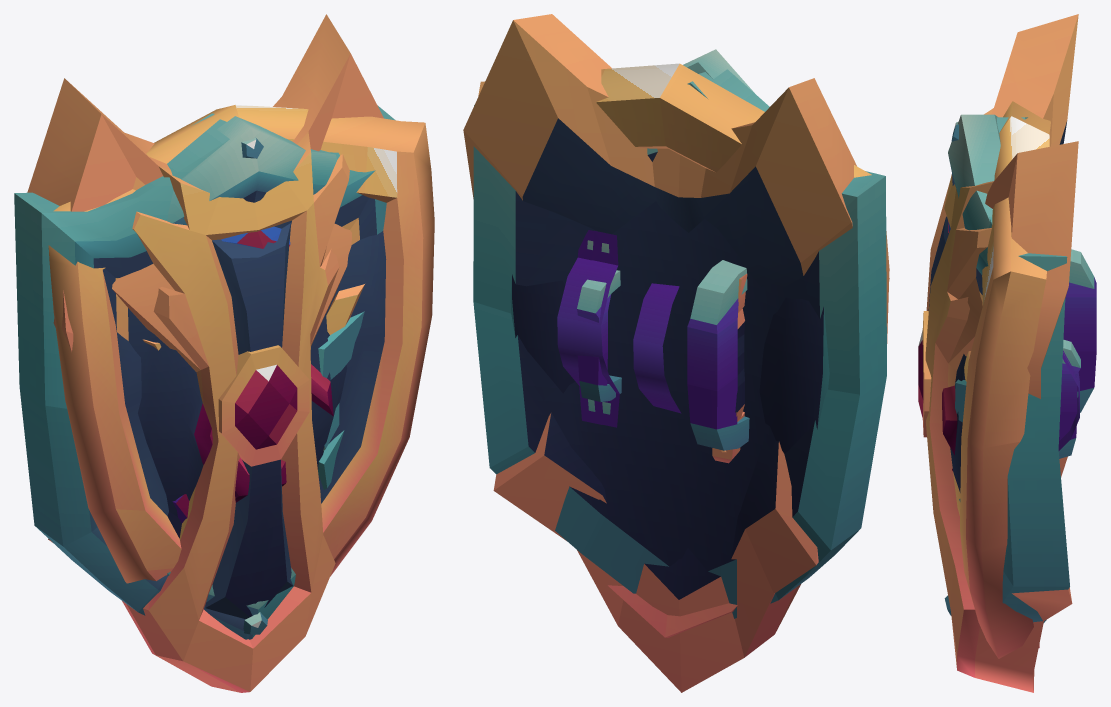
The model's file is MultipleShields.fbx.
3 renders of one model, left to right at view 1: azimuth 30°, elevation 25°; view 2: azimuth 150°, elevation 25°; view 3: azimuth 270°, elevation 25°, orthographic. The views are drawn at different scales.
Parts seen in each view (by area): view 1: pPlane8, pasted__Shield, pCube22, pCube40; view 2: pCube22, pPlane8, pCube40, pasted__Shield; view 3: pPlane8, pasted__Shield, pCube22, pCube40.
Boxes of the visible parts, x1=… form: pPlane8: x1=27, y1=14, x2=383, y2=692; pasted__Shield: x1=48, y1=104, x2=434, y2=583; pCube22: x1=14, y1=105, x2=395, y2=639; pCube40: x1=166, y1=116, x2=337, y2=639; pCube22: x1=473, y1=69, x2=886, y2=618; pPlane8: x1=463, y1=14, x2=889, y2=692; pCube40: x1=510, y1=49, x2=829, y2=453; pasted__Shield: x1=478, y1=63, x2=889, y2=637; pPlane8: x1=918, y1=14, x2=1080, y2=692; pasted__Shield: x1=960, y1=101, x2=1050, y2=658; pCube22: x1=942, y1=117, x2=1096, y2=622; pCube40: x1=944, y1=114, x2=1079, y2=615.
Size of the model in its own units: 1.05 by 1.61 by 0.4217.
